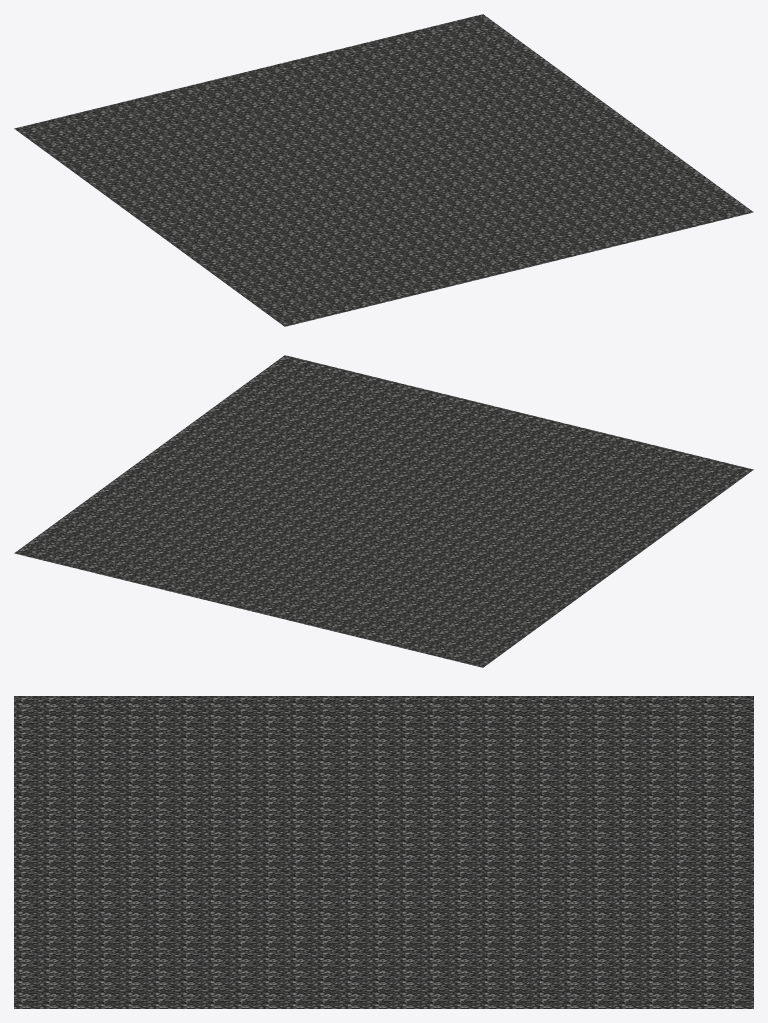
The model's file is ground3.obj.
3 renders of one model, top to bottom at view 1: azimuth 30°, elevation 25°; view 2: azimuth 150°, elevation 25°; view 3: azimuth 270°, elevation 25°, orthographic. The views are drawn at different scales.
Visible parts, largest first — view 1: ground.000_ground.012; view 2: ground.000_ground.012; view 3: ground.000_ground.012.
Boxes of the visible parts, x1,y1,x2,y2 form: ground.000_ground.012: (14, 14, 753, 326); ground.000_ground.012: (14, 355, 753, 667); ground.000_ground.012: (14, 696, 753, 1008).
Size of the model in its own units: 27 by 4e-06 by 27.
Materials: 1 (1 with a texture image).
